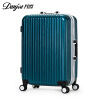luggage: (17, 11, 80, 94)
